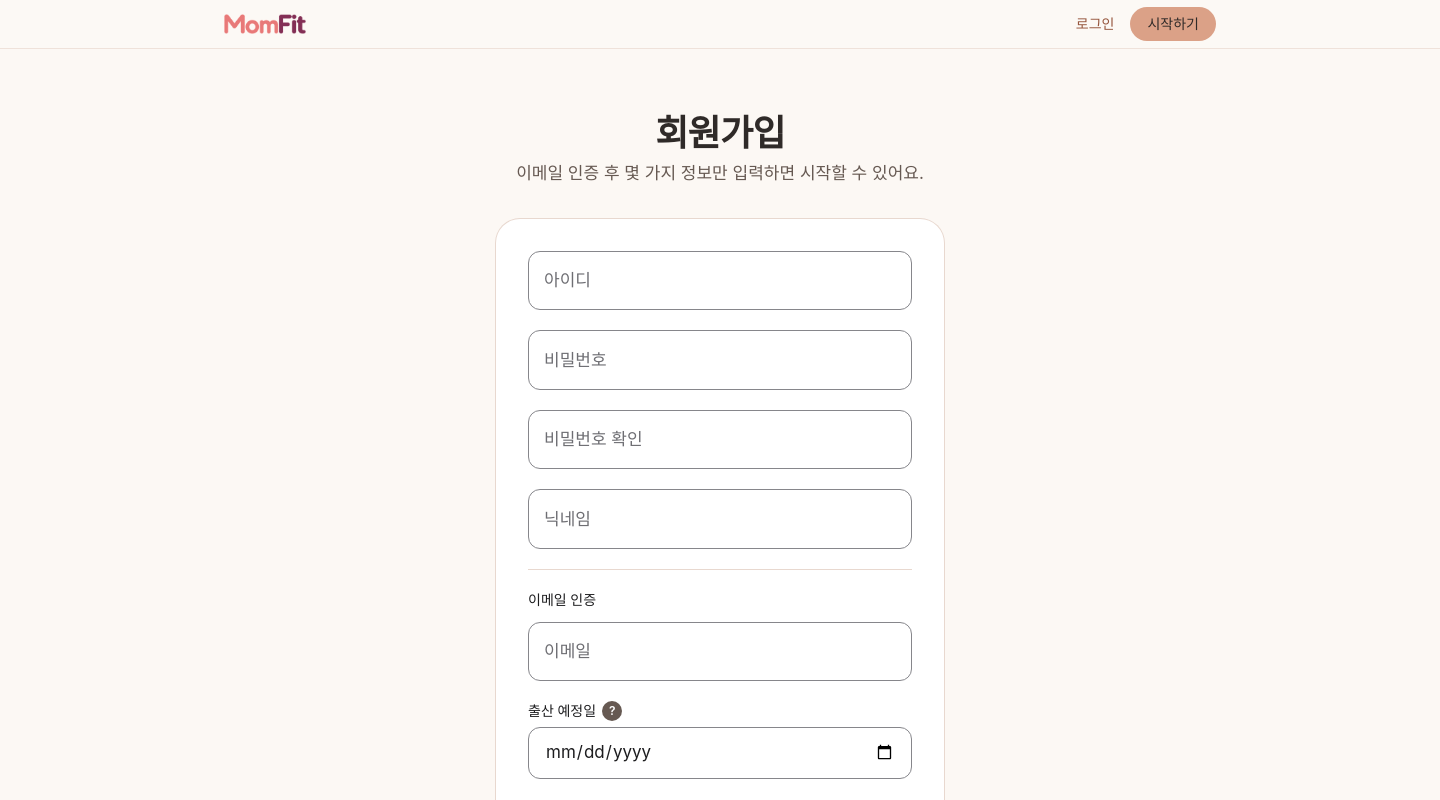
Scenario: 회원가입 - 플로팅 라벨과 툴팁 › 출산 예정일의 설명은 힌트 문장이 아니라 라벨 옆 물음표 툴팁에 있다
This screenshot has width=1440, height=800.
Hover over the button named "출산 예정일 도움말": {"x": 612, "y": 711} top-left (602, 701), bottom-right (622, 721)
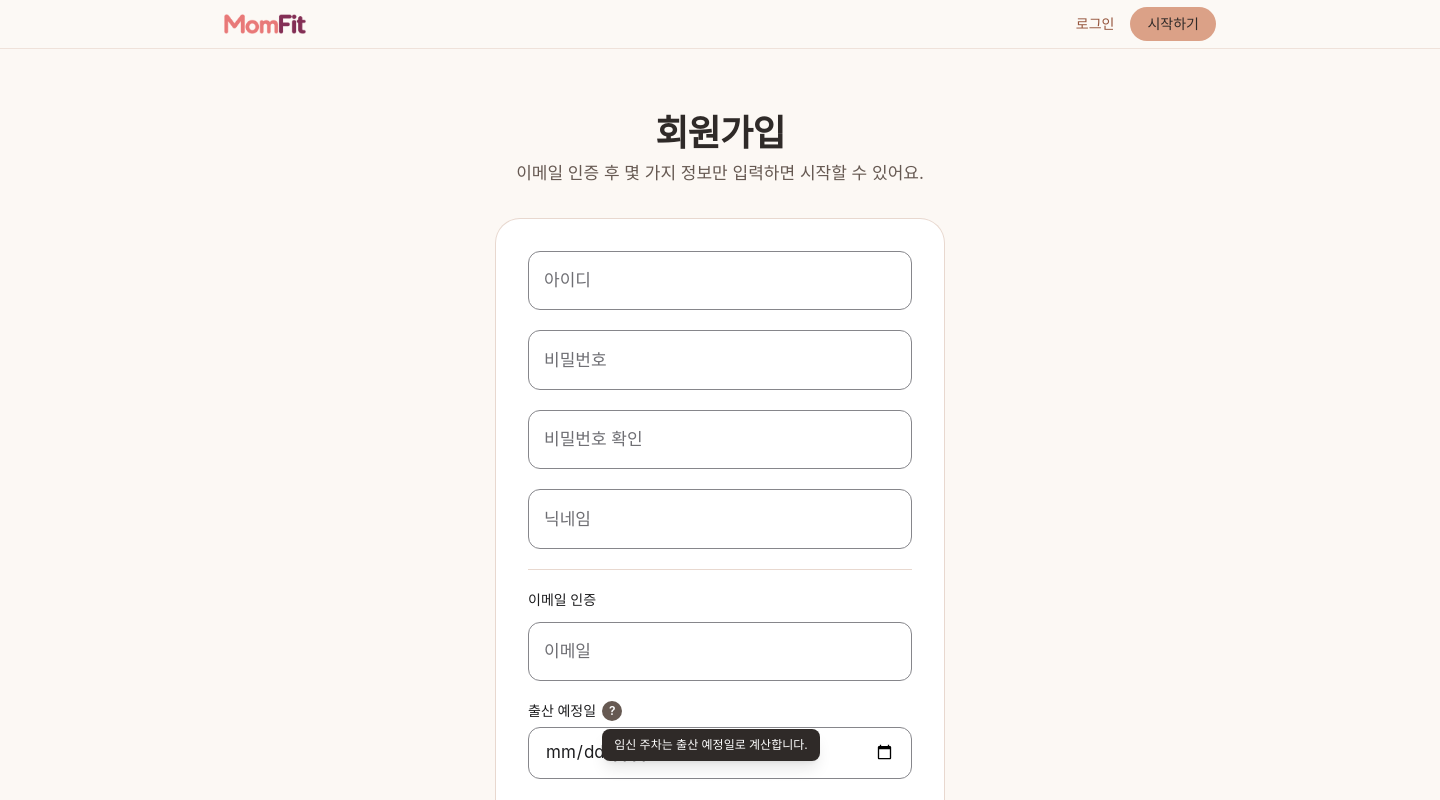
Expected: the tooltip reads "임신 주차는 출산 예정일로 계산합니다.", top-left (614, 737), bottom-right (808, 752)
